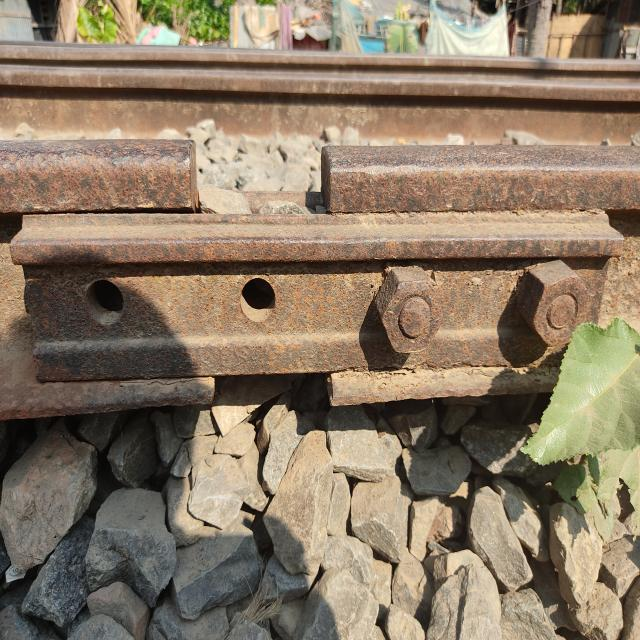defective: (109, 109, 456, 498)
